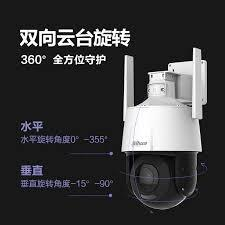maru: (119, 94, 192, 212)
